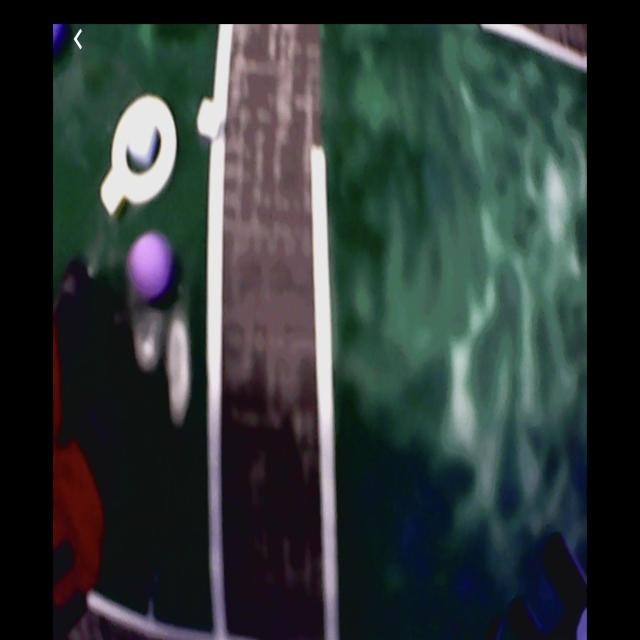ball: (127, 233, 170, 301), (55, 25, 71, 65)
